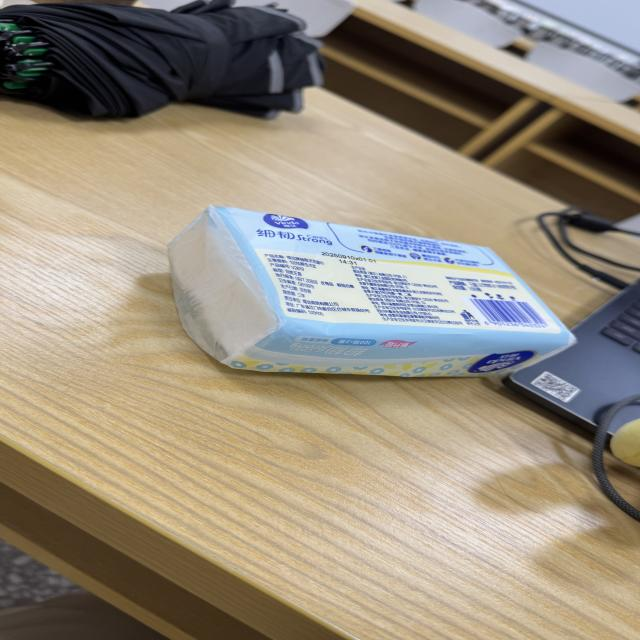tissue: (169, 208, 574, 376)
